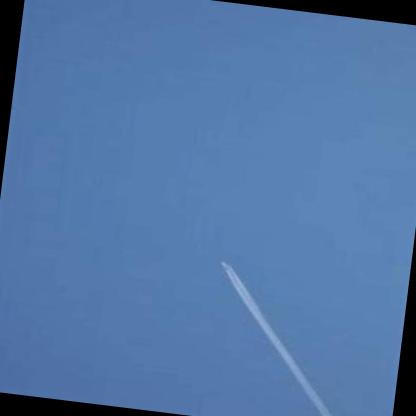plane: (214, 253, 229, 268)
